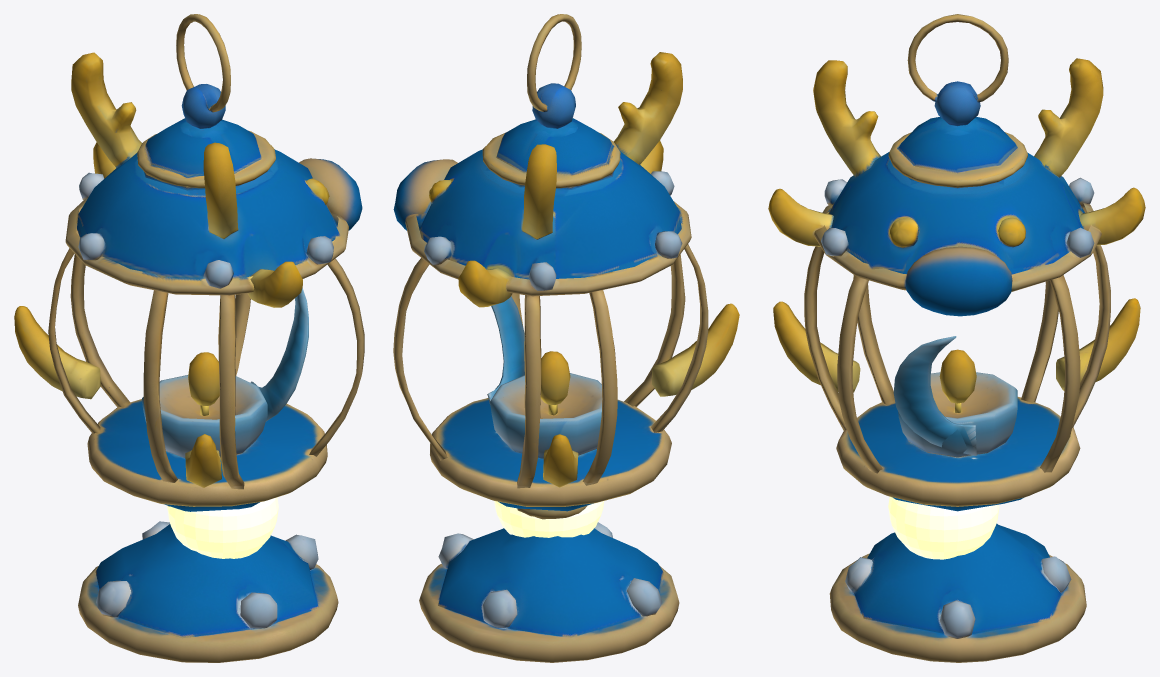
Rendered from magic-lantern.glb.
3 views of the same model, side by side, from view 1: azimuth 30°, elevation 25°; view 2: azimuth 150°, elevation 25°; view 3: azimuth 270°, elevation 25° (orthographic).
Visible parts, largest first — view 1: tripo_node_3d1faa70-0ee4-4a84-b511-4beb4e7eca20, MagicLantern_Glow; view 2: tripo_node_3d1faa70-0ee4-4a84-b511-4beb4e7eca20, MagicLantern_Glow; view 3: tripo_node_3d1faa70-0ee4-4a84-b511-4beb4e7eca20, MagicLantern_Glow.
Part boxes in pixels (x1,y1,x2,y2): tripo_node_3d1faa70-0ee4-4a84-b511-4beb4e7eca20: [14, 14, 364, 662]; MagicLantern_Glow: [167, 497, 278, 558]; tripo_node_3d1faa70-0ee4-4a84-b511-4beb4e7eca20: [393, 14, 739, 662]; MagicLantern_Glow: [494, 501, 604, 537]; tripo_node_3d1faa70-0ee4-4a84-b511-4beb4e7eca20: [768, 14, 1145, 662]; MagicLantern_Glow: [888, 496, 999, 559].
Bounding box in the file's own units: 0.232 × 0.48 × 0.2771.
Materials: 2 (1 with a texture image).
